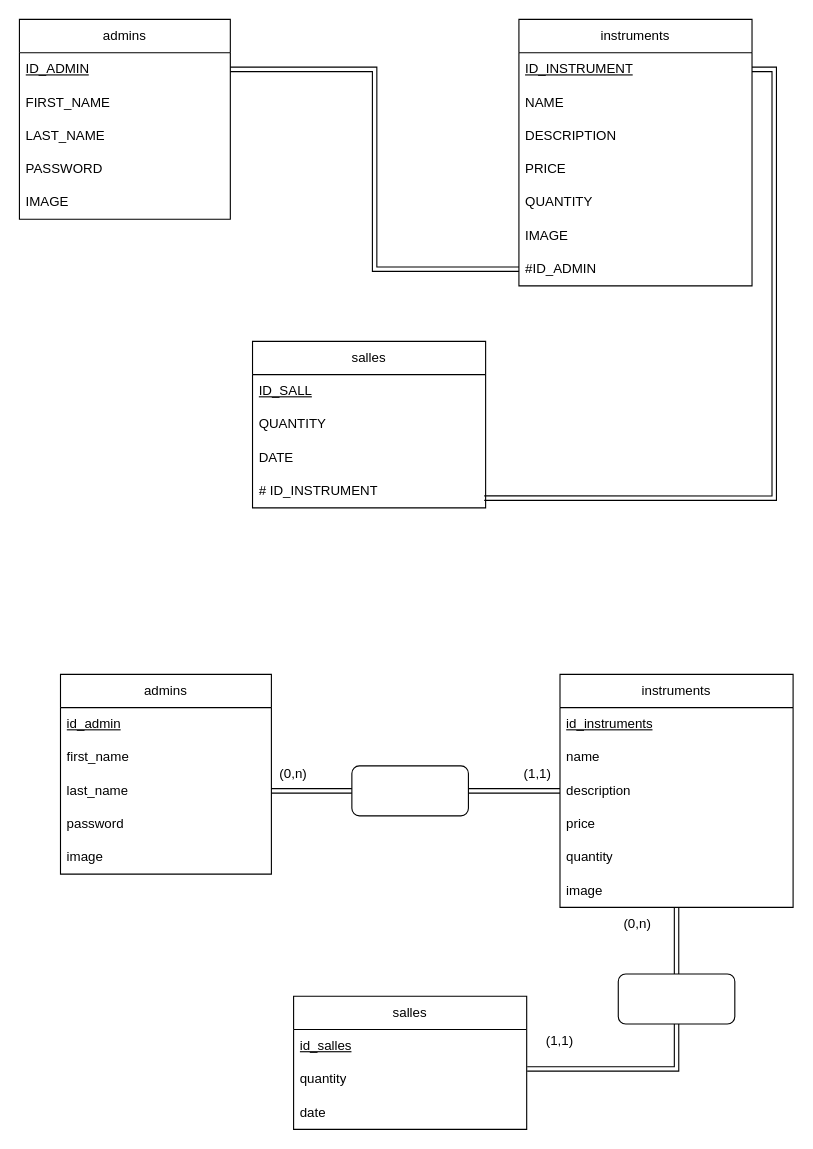
The diagram is 813 pixels wide and 1149 high, and some of its shapes have lost their labels. Each missing label, with the centre of its shape:
"gérer" belongs at [409,790].
"être" belongs at [676,998].
